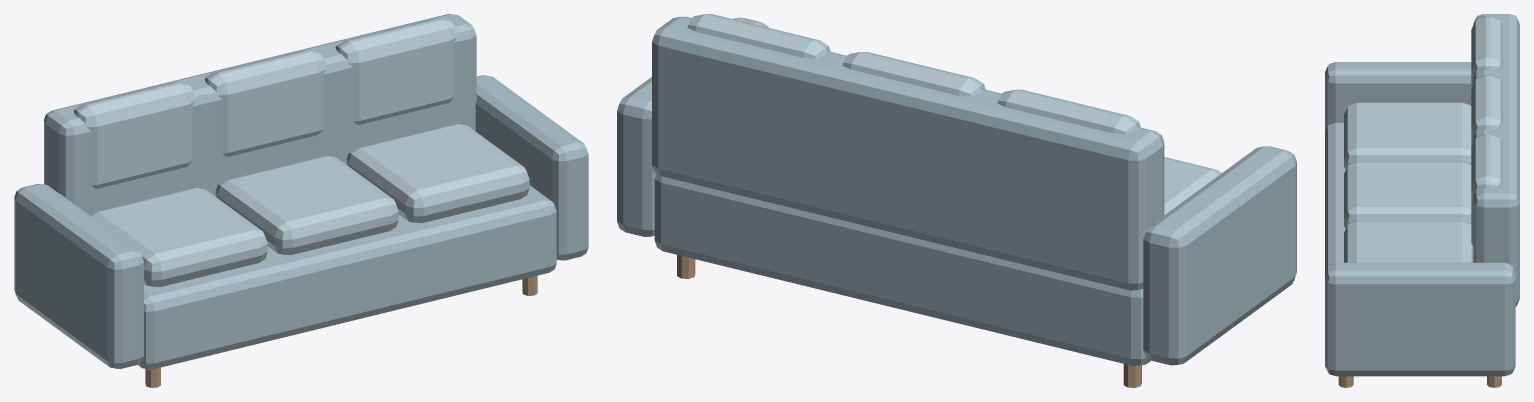
Rendered from th_sofa.glb.
3 renders of one model, left to right at view 1: azimuth 30°, elevation 25°; view 2: azimuth 150°, elevation 25°; view 3: azimuth 270°, elevation 25°, orthographic. The views are drawn at different scales.
Parts seen in each view (by area): view 1: sofa; view 2: sofa; view 3: sofa.
Boxes of the visible parts, box(x1,y1,x2,y2) form: sofa: box(14, 14, 588, 387); sofa: box(617, 14, 1296, 387); sofa: box(1325, 14, 1519, 387).
Size of the model in its own units: 2.42 by 1.06 by 0.92.
